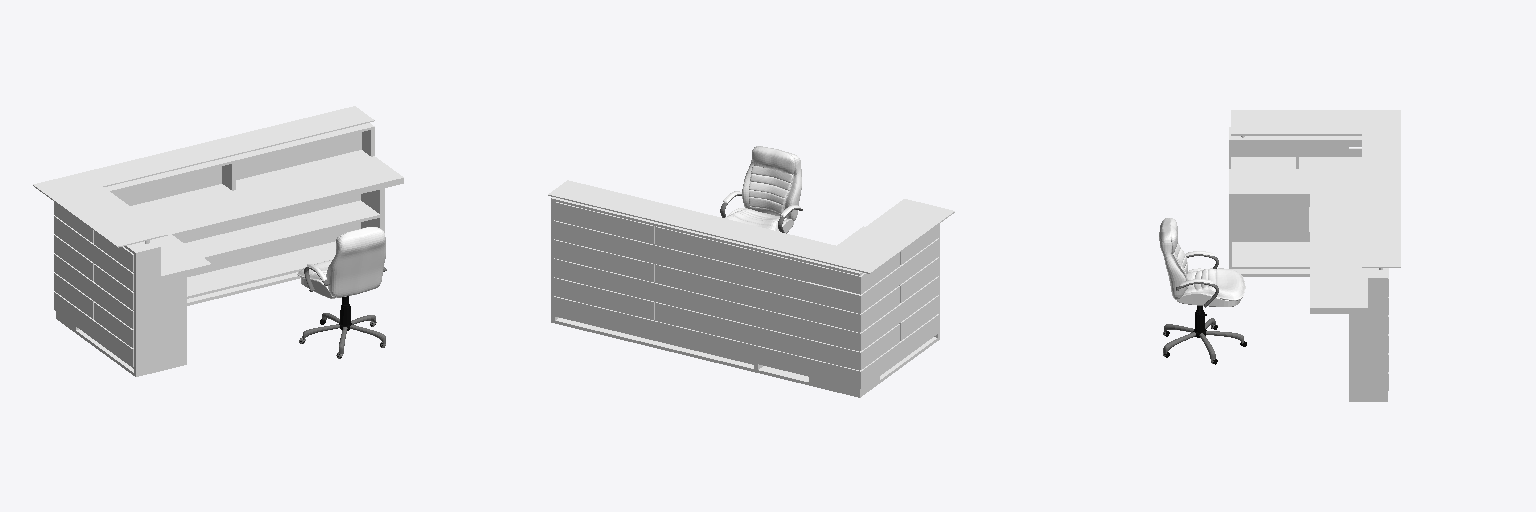
File: reception.obj
3 renders of one model, left to right at view 1: azimuth 30°, elevation 25°; view 2: azimuth 150°, elevation 25°; view 3: azimuth 270°, elevation 25°, orthographic.
Visible parts, largest first — view 1: SketchUp, group_2_ID20, group_14_ID120, Agrupar_10_ID45, Box2_ID150, group_4_ID30, group_9_ID77, group_8_ID70, group_10_ID92, group_6_ID54, group_7_ID61, Objec; view 2: group_6_ID54, group_4_ID30, group_14_ID120, group_5_ID37, group_7_ID61, SketchUp, Agrupar_10_ID45, Box2_ID150, group_8_ID70, group_9_ID77, group_10_ID92, Box_ID132; view 3: group_2_ID20, SketchUp, group_14_ID120, group_1_ID13, Box2_ID150, Box_ID132, Objec, Agrupar_10_ID45, Box1_ID142.
Part boxes in pixels (bbox=[...]): SketchUp: bbox=[56, 123, 384, 376]; group_2_ID20: bbox=[130, 150, 403, 281]; group_14_ID120: bbox=[33, 106, 374, 247]; Agrupar_10_ID45: bbox=[54, 216, 133, 366]; Box2_ID150: bbox=[326, 227, 385, 297]; group_4_ID30: bbox=[160, 141, 361, 276]; group_9_ID77: bbox=[94, 231, 133, 347]; group_8_ID70: bbox=[54, 202, 94, 318]; group_10_ID92: bbox=[115, 139, 361, 276]; group_6_ID54: bbox=[113, 157, 259, 242]; group_7_ID61: bbox=[261, 132, 361, 223]; Objec: bbox=[302, 313, 385, 353]; group_6_ID54: bbox=[656, 226, 858, 369]; group_4_ID30: bbox=[554, 220, 755, 363]; group_14_ID120: bbox=[548, 180, 954, 273]; group_5_ID37: bbox=[758, 270, 861, 388]; group_7_ID61: bbox=[554, 202, 654, 319]; SketchUp: bbox=[551, 197, 939, 397]; Agrupar_10_ID45: bbox=[860, 238, 939, 387]; Box2_ID150: bbox=[742, 146, 801, 220]; group_8_ID70: bbox=[859, 253, 899, 369]; group_9_ID77: bbox=[899, 224, 939, 340]; group_10_ID92: bbox=[555, 220, 807, 363]; Box_ID132: bbox=[725, 208, 786, 230]; group_2_ID20: bbox=[1229, 157, 1367, 313]; SketchUp: bbox=[1229, 127, 1387, 401]; group_14_ID120: bbox=[1231, 110, 1400, 267]; group_1_ID13: bbox=[1231, 142, 1348, 241]; Box2_ID150: bbox=[1159, 218, 1187, 299]; Box_ID132: bbox=[1184, 268, 1245, 300]; Objec: bbox=[1163, 318, 1243, 359]; Agrupar_10_ID45: bbox=[1231, 148, 1361, 241]; Box1_ID142: bbox=[1177, 268, 1240, 306].
Size of the model in its own units: 2.88 by 1.13 by 1.85.